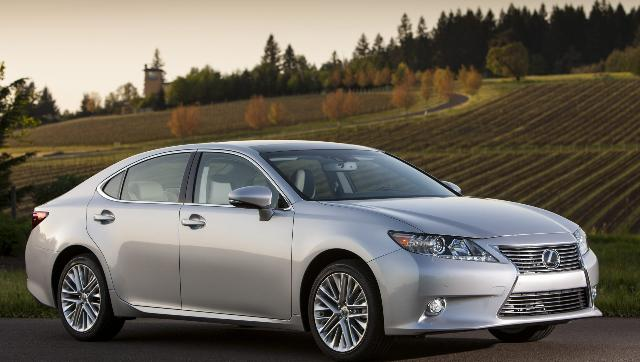lexus: (25, 138, 603, 360)
